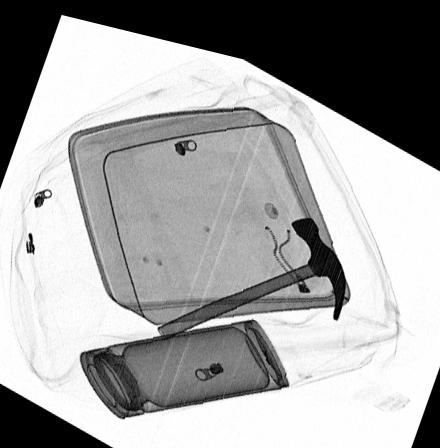Hammer: (155, 201, 346, 332)
